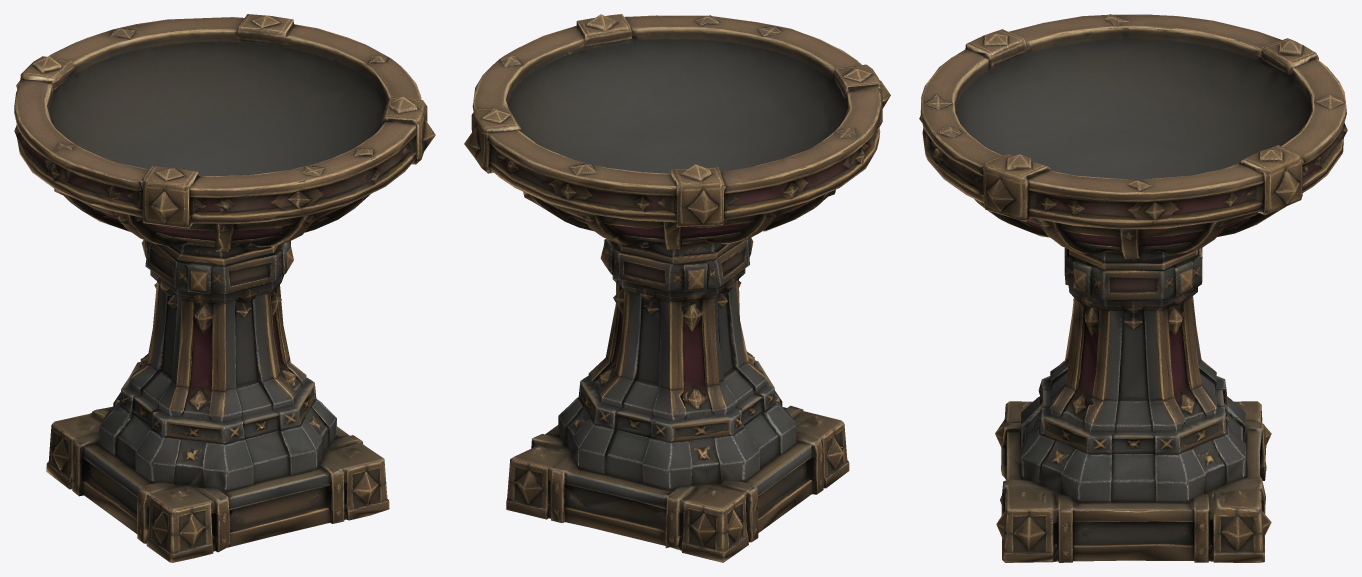
The model's file is brazier.glb.
3 views of the same model, side by side, from view 1: azimuth 30°, elevation 25°; view 2: azimuth 150°, elevation 25°; view 3: azimuth 270°, elevation 25° (orthographic). The views are drawn at different scales.
Parts seen in each view (by area): view 1: Brazier; view 2: Brazier; view 3: Brazier.
Part boxes in pixels (box(x1,y1,x2,y2)): Brazier: box(14, 14, 435, 562); Brazier: box(464, 14, 890, 562); Brazier: box(919, 14, 1347, 562).
Bounding box in the file's own units: 0.9206 × 1 × 0.9254.
1 material, 1 textured.
